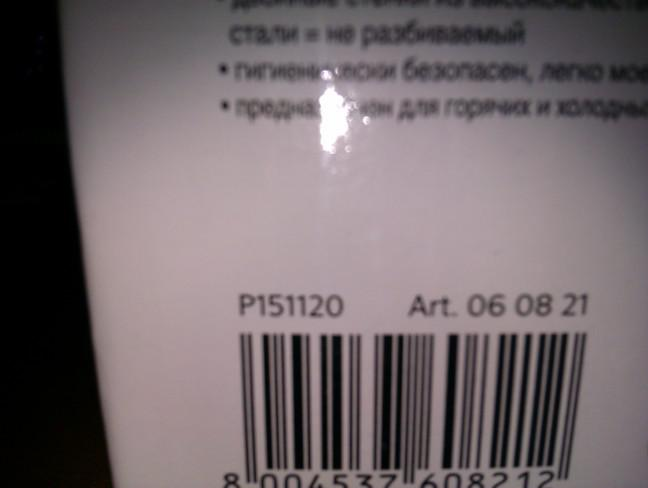Barkod: (177, 322, 603, 482)
